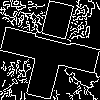I: (25, 25, 73, 50)
